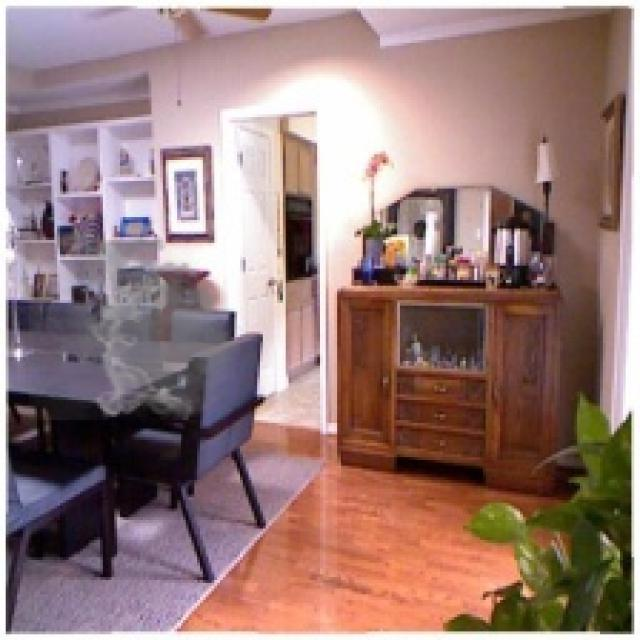Smoke: (28, 223, 252, 423)
